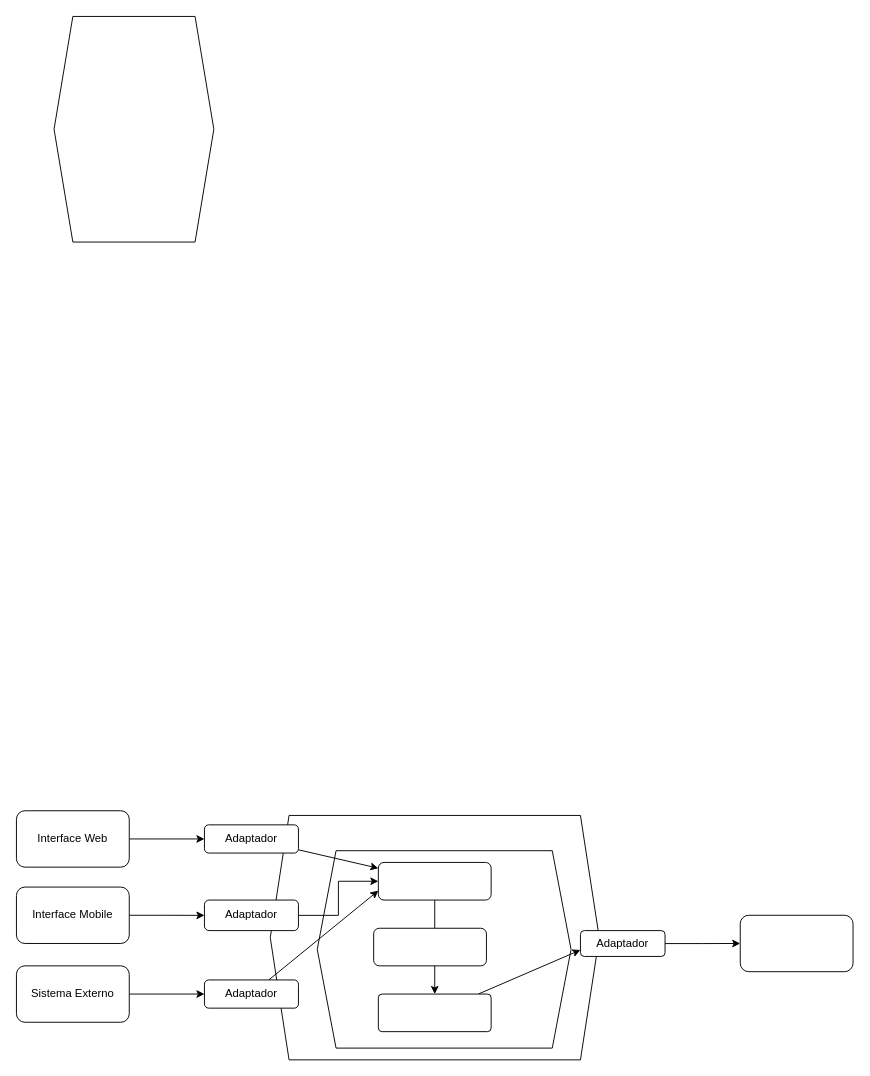
Some shapes in this 870 by 1076 pixel diagram are drawn without their labels. Here are the shapes that lost their labels. From the top down, the centre of each, then its label:
At [434,881]: "Porta de Entrada".
At [429,946]: "Classes Dominio".
At [796,943]: "Banco de Dados".
At [434,1012]: "Porta de Saida".
